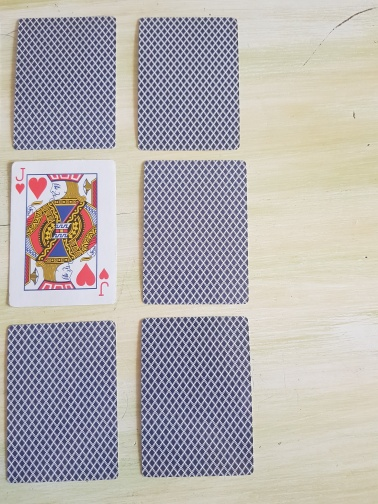jack: (7, 159, 118, 308)
